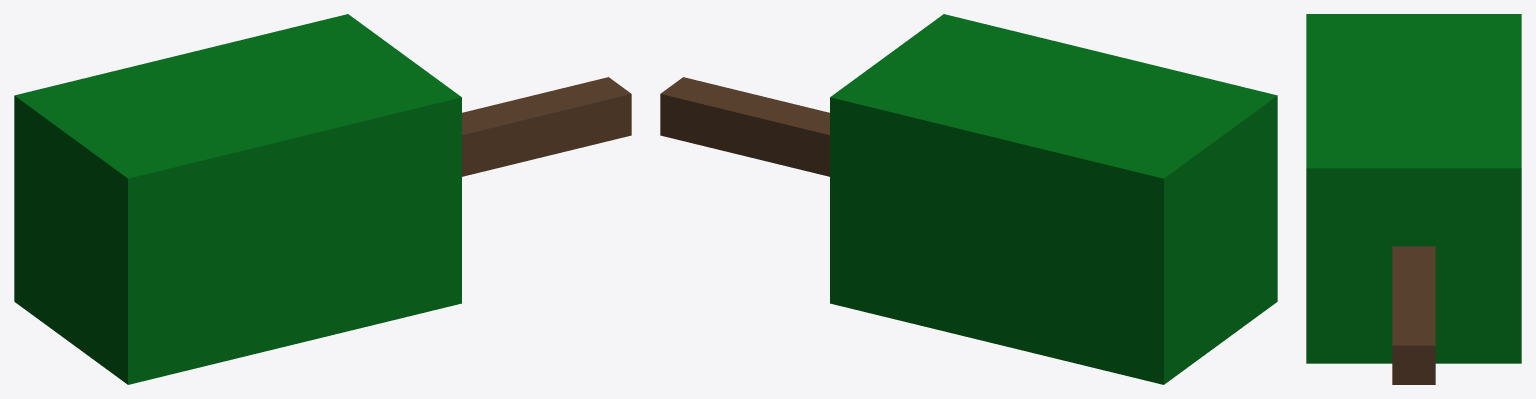
Rendered from Tree 0.fbx.
3 views of the same model, side by side, from view 1: azimuth 30°, elevation 25°; view 2: azimuth 150°, elevation 25°; view 3: azimuth 270°, elevation 25° (orthographic). The views are drawn at different scales.
Visible parts, largest first — view 1: Tree 1; view 2: Tree 1; view 3: Tree 1.
Part boxes in pixels (x1,y1,x2,y2): Tree 1: (14, 14, 631, 384); Tree 1: (660, 14, 1277, 384); Tree 1: (1306, 14, 1521, 384).
Bounding box in the file's own units: 91.61 × 255 × 91.61.
